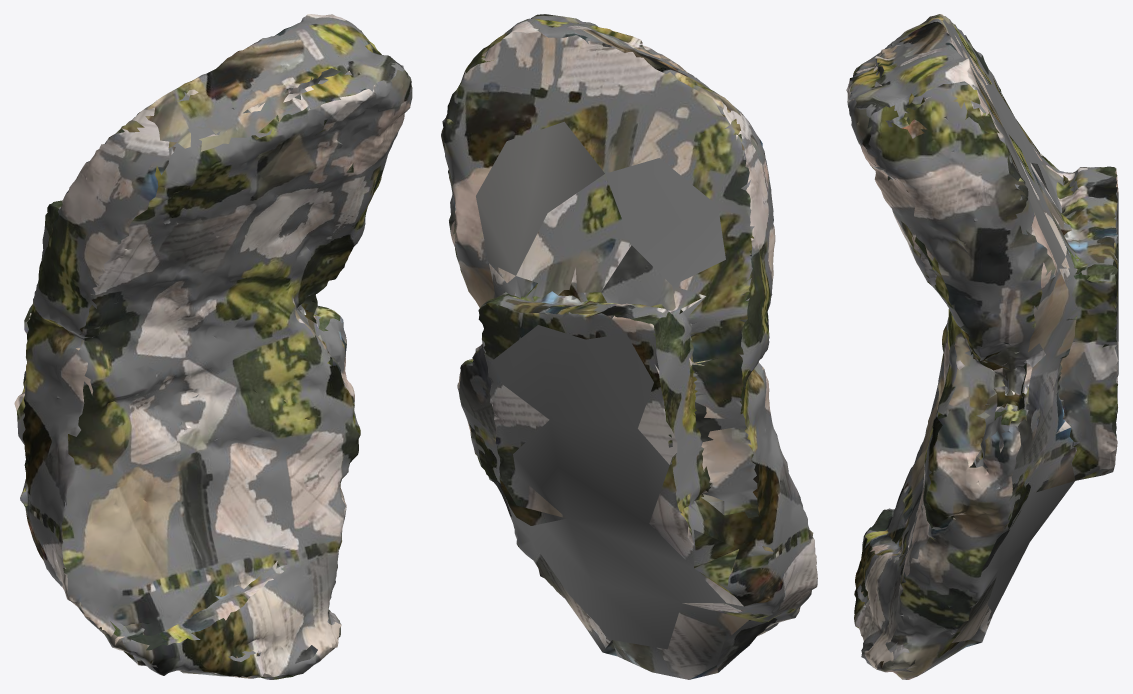
3 views of the same model, side by side, from view 1: azimuth 30°, elevation 25°; view 2: azimuth 150°, elevation 25°; view 3: azimuth 270°, elevation 25° (orthographic). The views are drawn at different scales.
Bounding box in the file's own units: 0.5767 × 1 × 0.3836.
